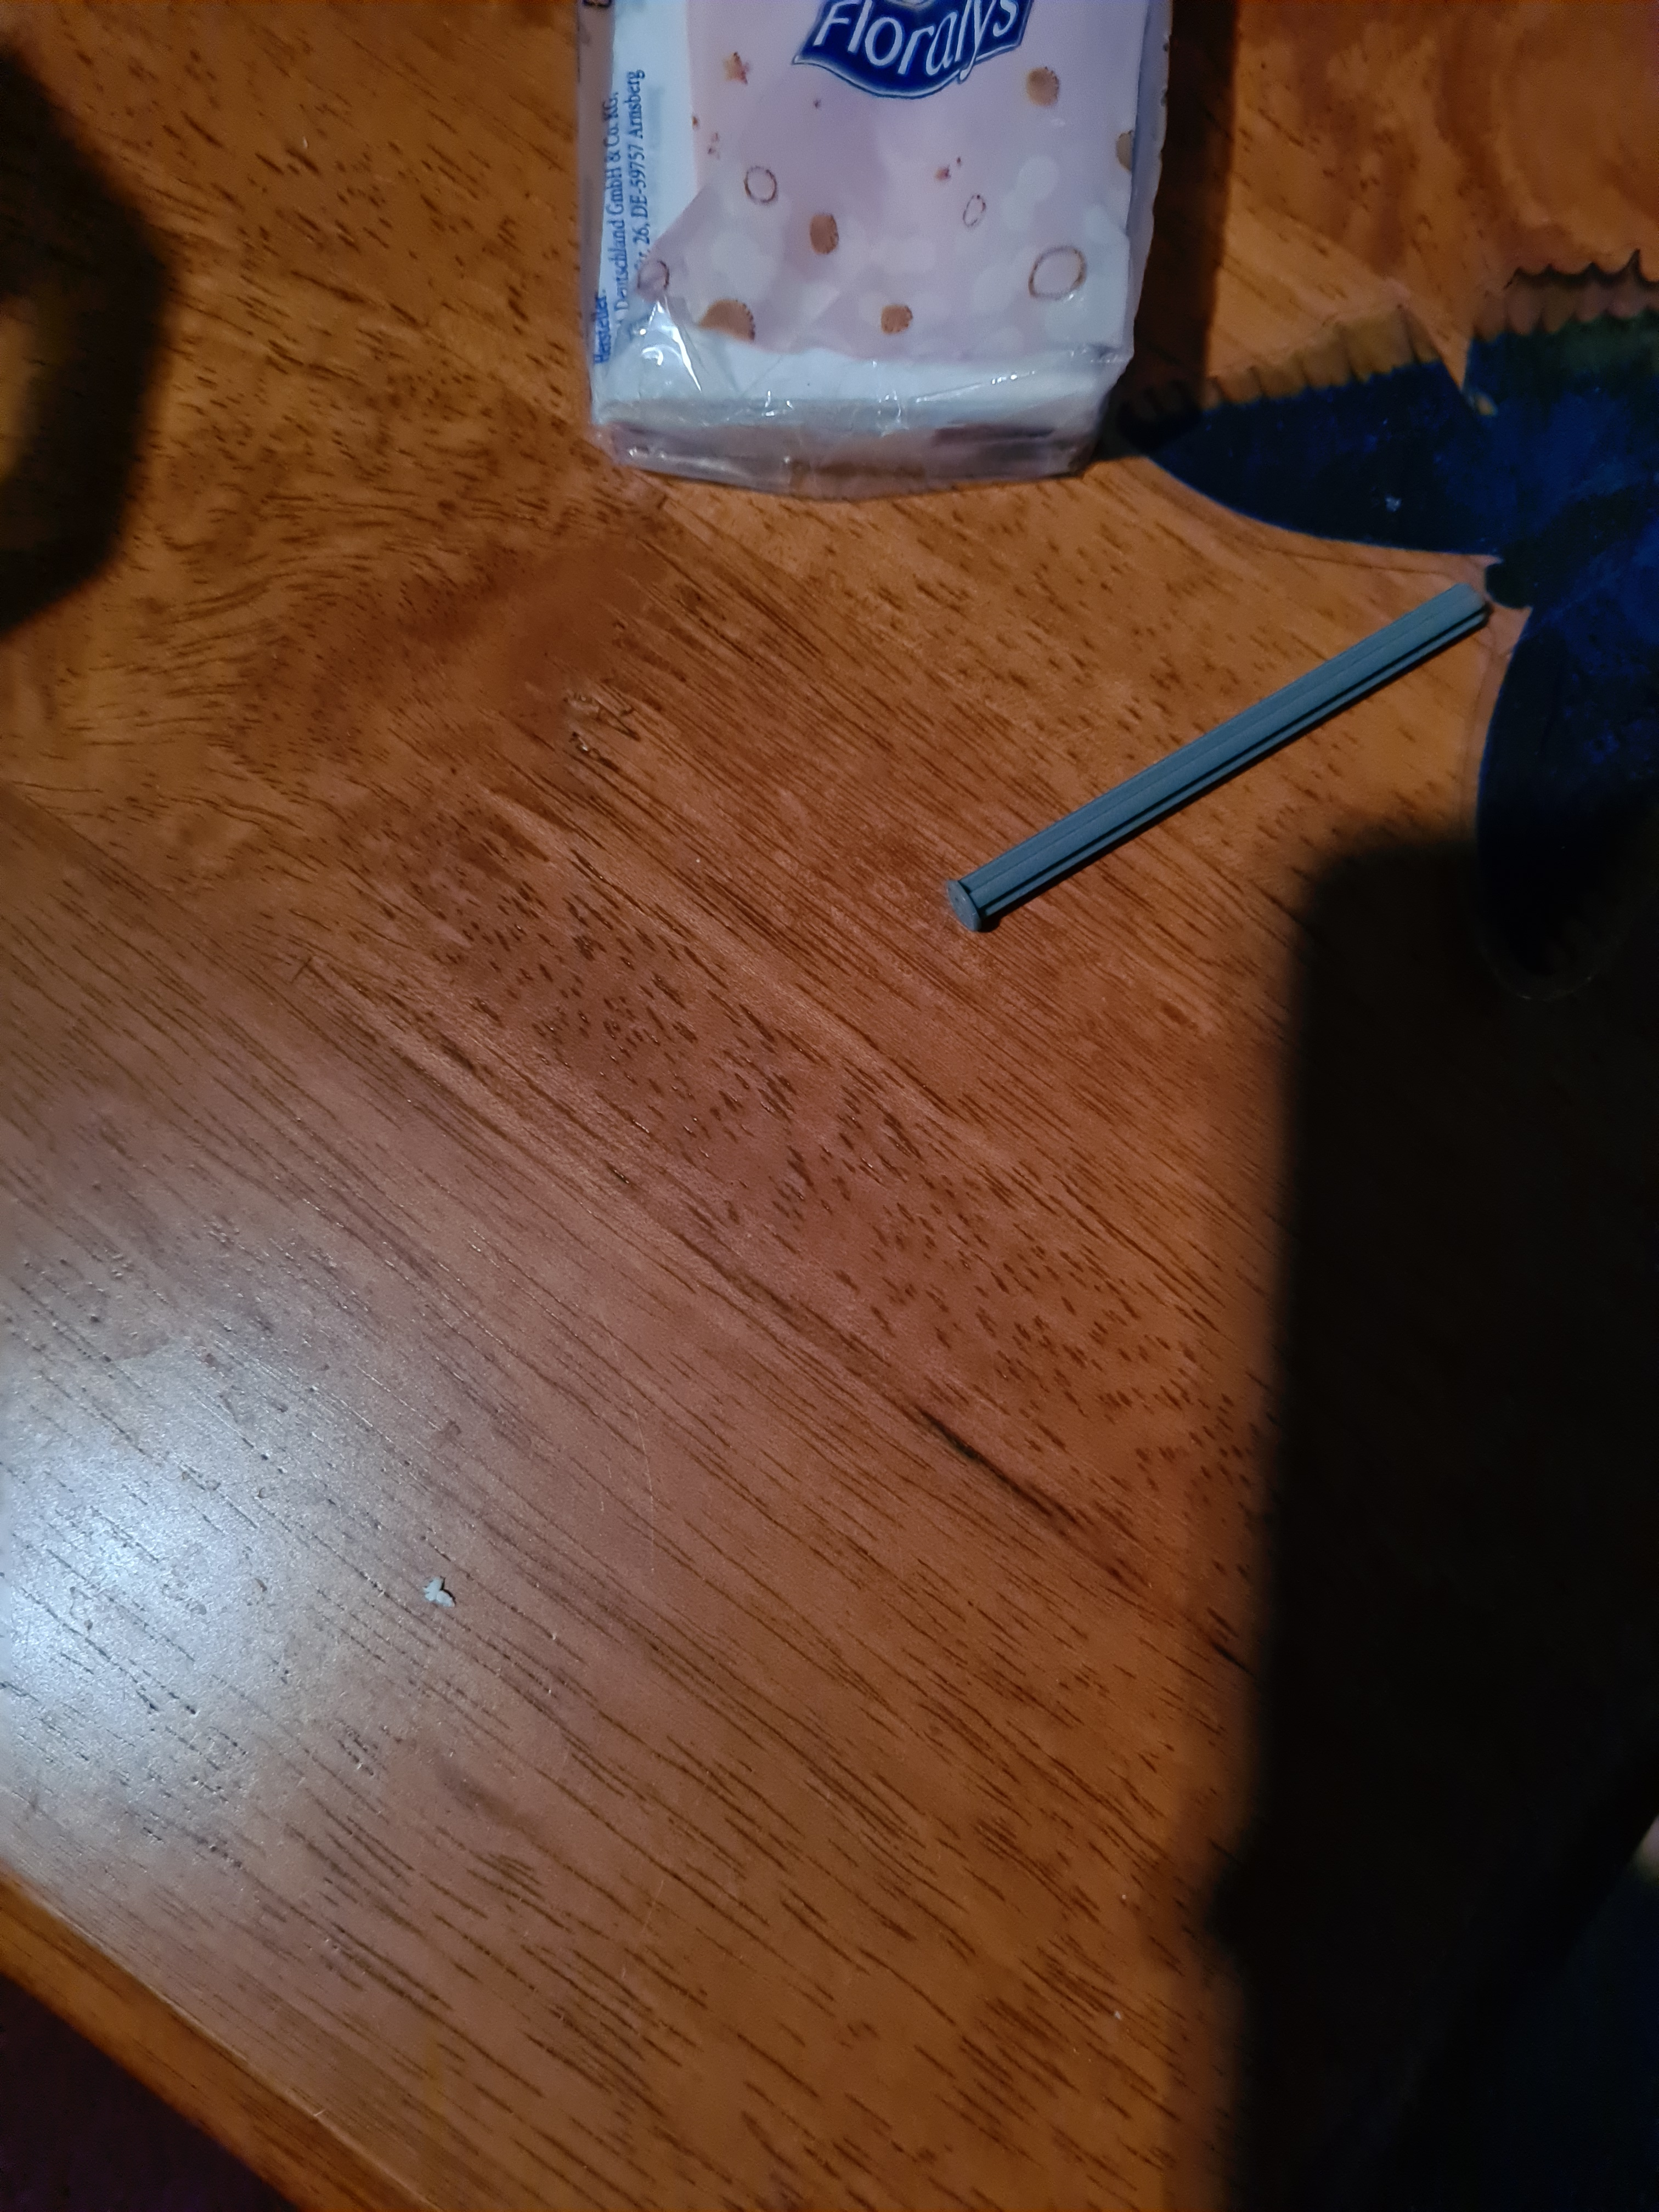Grau_lang: (929, 538, 1502, 977)
